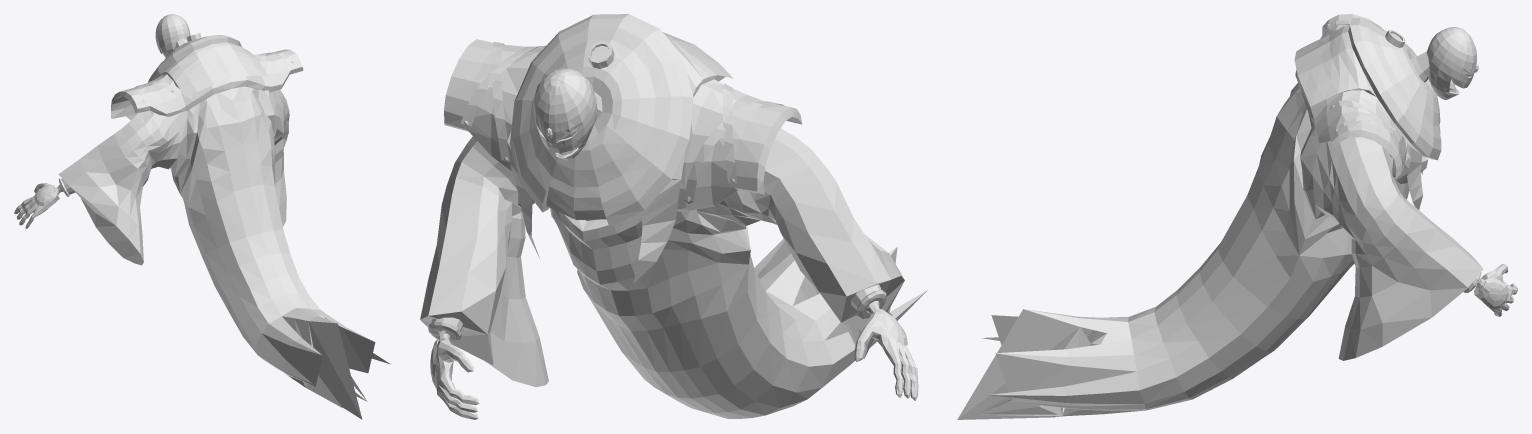
File: Akakieisu.fbx
The picture shows the model from 3 angles, left to right: view 1: azimuth 30°, elevation 25°; view 2: azimuth 150°, elevation 25°; view 3: azimuth 270°, elevation 25°; orthographic projection. The views are drawn at different scales.
Visible parts, largest first — view 1: node_id3; view 2: node_id3; view 3: node_id3.
Part boxes in pixels (x1,y1,x2,y2): node_id3: [14, 14, 390, 419]; node_id3: [420, 14, 928, 419]; node_id3: [957, 14, 1517, 419].
Bounding box in the file's own units: 0.4991 × 0.512 × 0.6699.
Materials: 1 (1 with a texture image).
